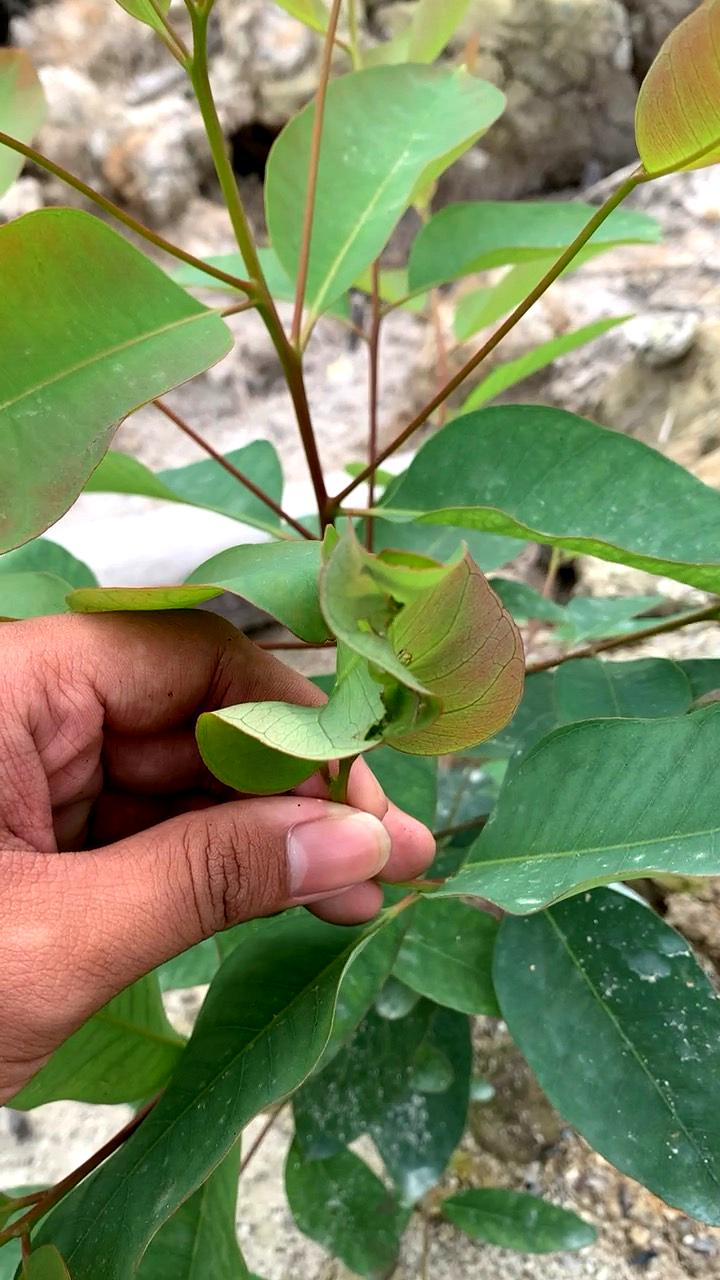Leaf Roller - Leaf: (211, 483, 596, 948)
